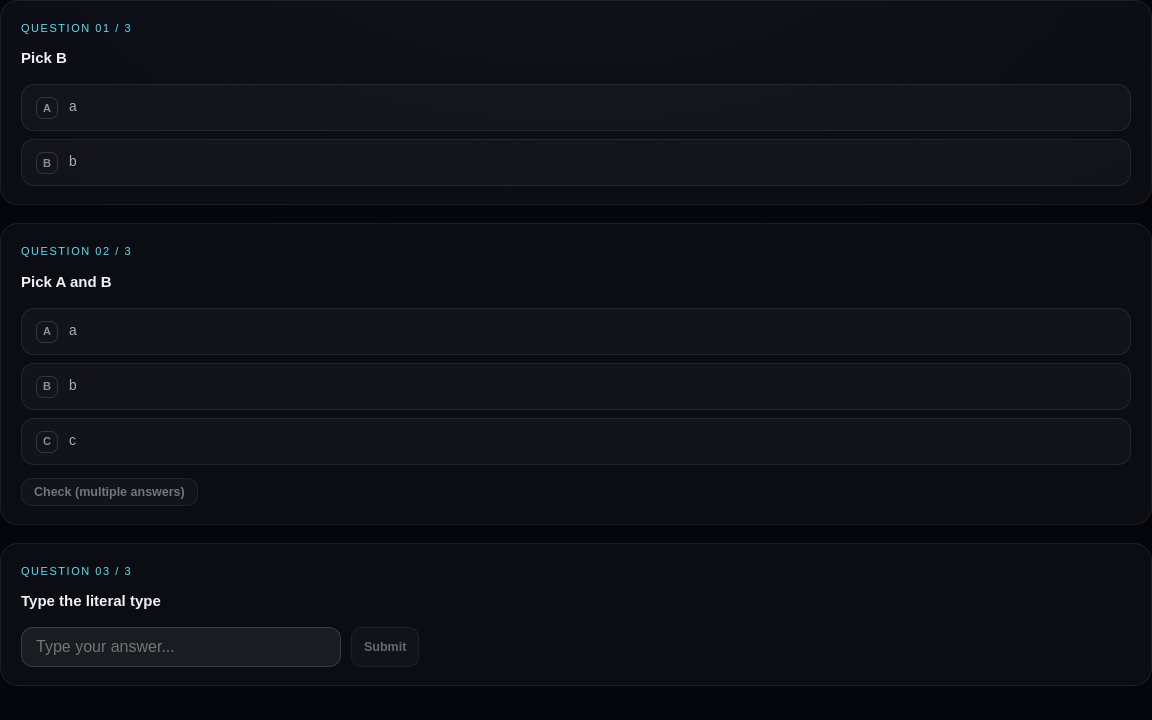
it: keyboard and screen readers › moves focus to the verdict once a multiple-choice question is checked
The width and height of the screenshot is (1152, 720).
Click the button "A a" below "Pick A and B": (47, 332) top-left (21, 308), bottom-right (1131, 354)
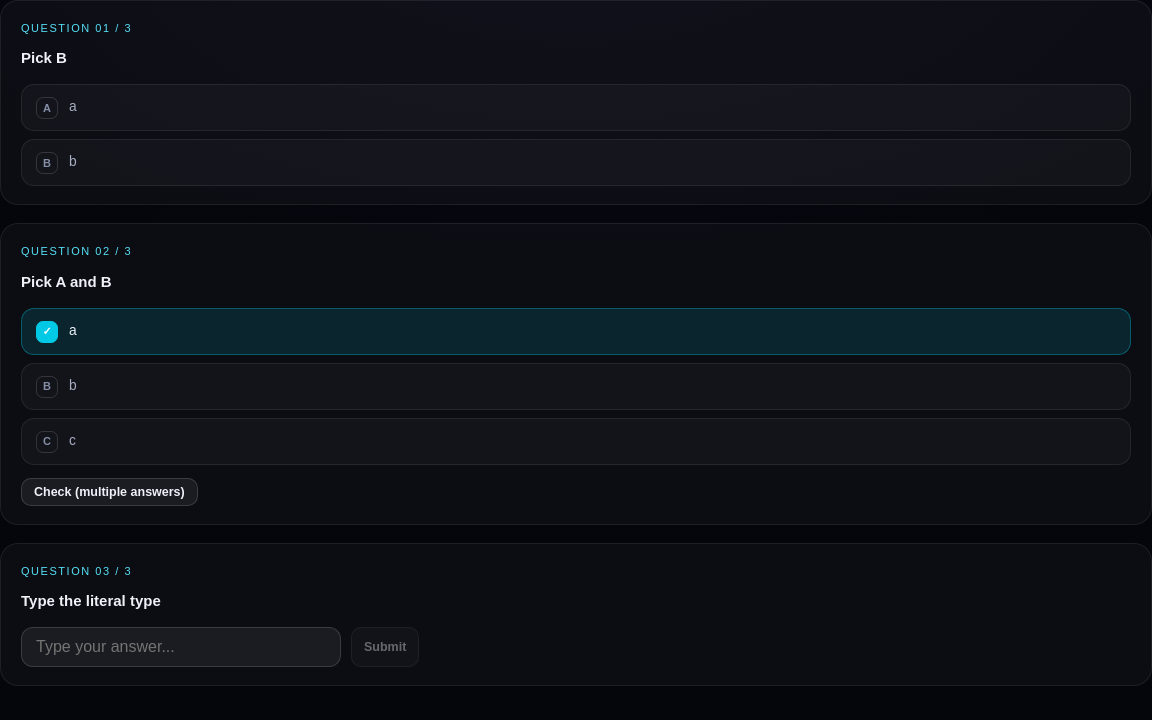
Click the button "B b" below "Pick A and B": (47, 386) top-left (21, 362), bottom-right (1131, 410)
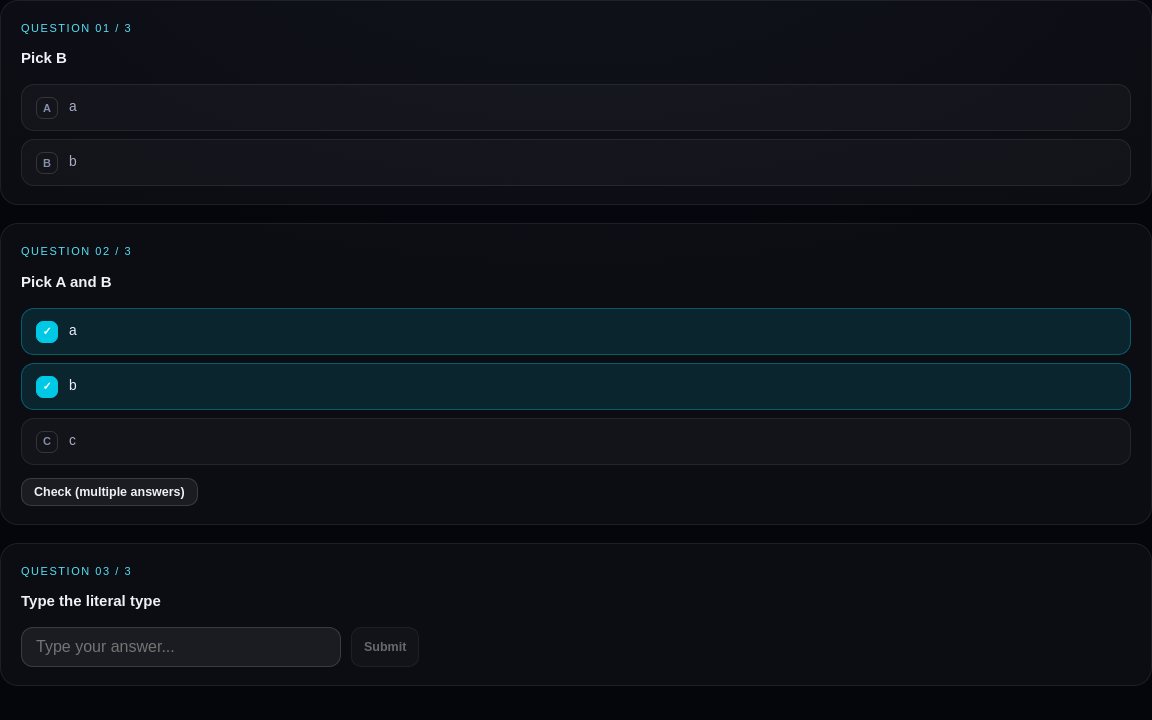
Click the button "Check (multiple answers)": (109, 492) top-left (21, 478), bottom-right (198, 506)
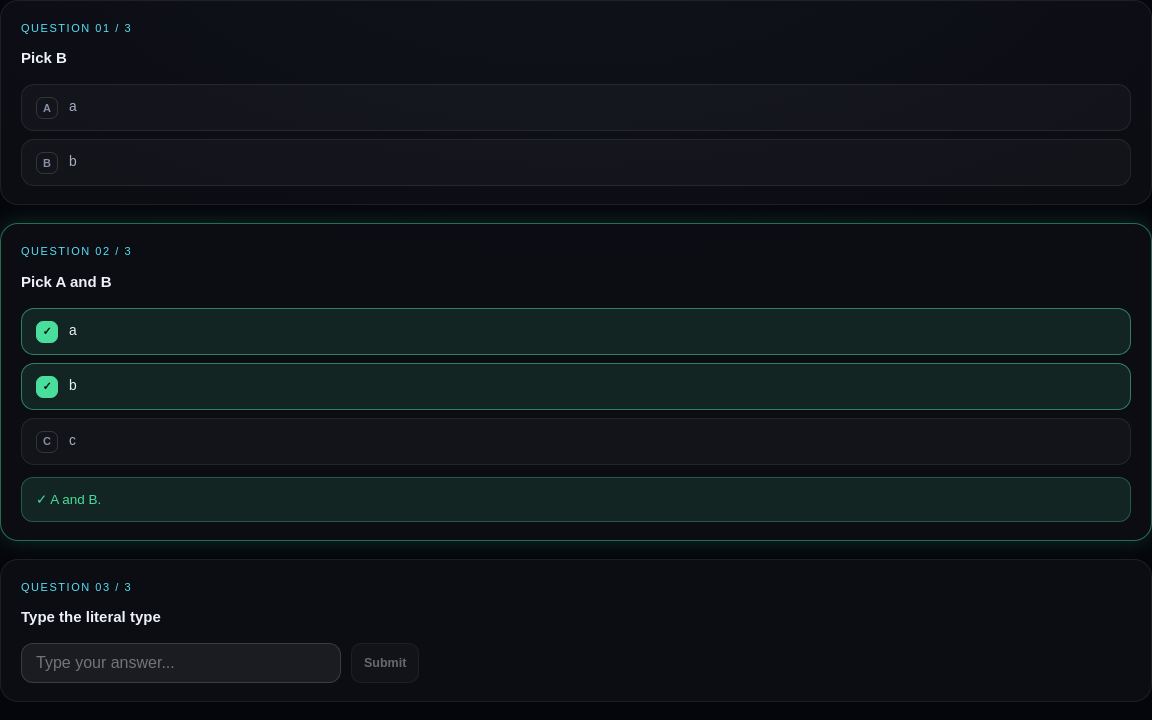
expect the message "✓ A and B." is shown: met, box top-left (21, 476), bottom-right (1131, 522)
